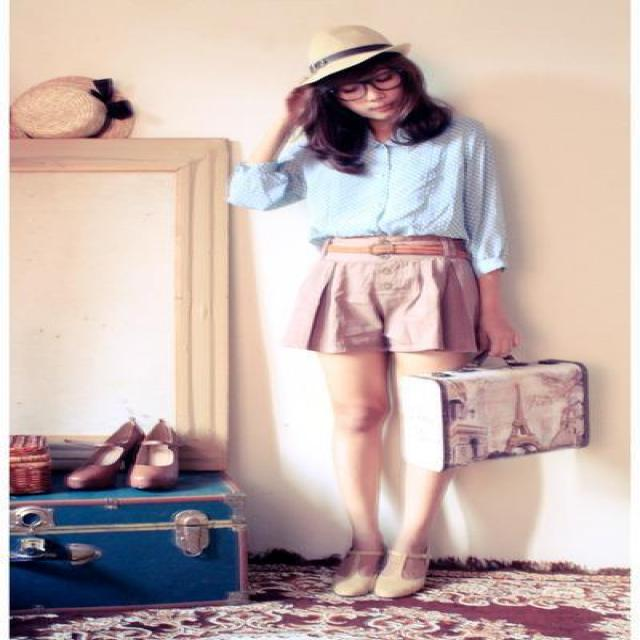bag: (435, 360, 602, 483)
hat: (308, 21, 402, 75)
shirt: (226, 115, 520, 273)
shoe: (334, 566, 446, 600)
shorts: (304, 228, 490, 370)
